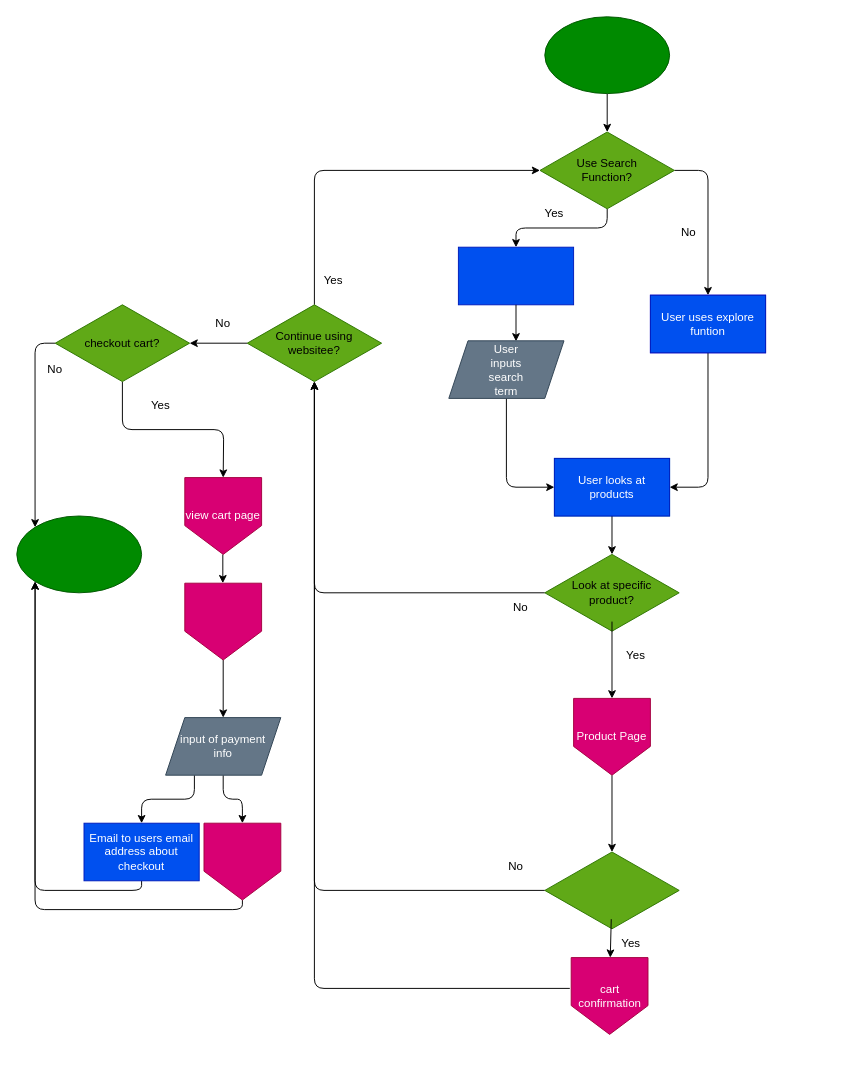
The diagram is 850 pixels wide and 1090 high, and some of its shapes have lost their labels. Here are the shapes that lost their labels. From the top down, the box of each, then its label:
(544, 16, 670, 94): User Enters Website
(457, 246, 574, 305): User Uses seach function
(16, 515, 142, 593): User leaves website
(184, 582, 262, 660): view payment page
(203, 822, 281, 900): Confiirmation page
(544, 851, 679, 929): add to cart?
